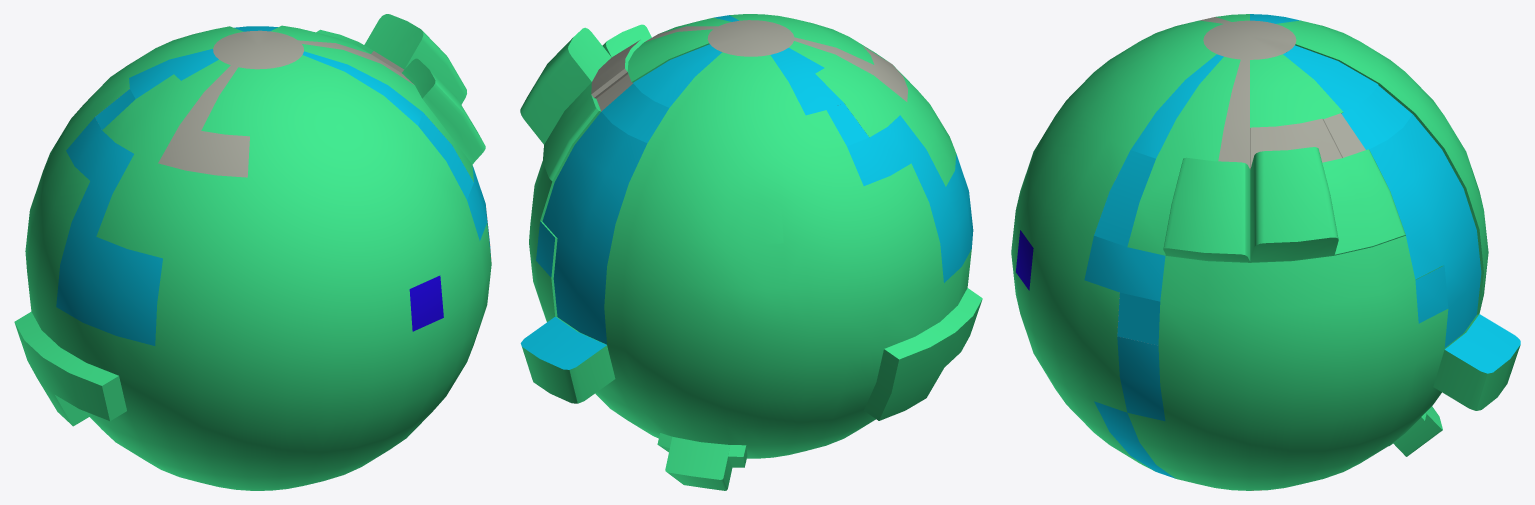
The model's file is planeetta_pohja_pienempismooth 1.fbx.
The picture shows the model from 3 angles, left to right: view 1: azimuth 30°, elevation 25°; view 2: azimuth 150°, elevation 25°; view 3: azimuth 270°, elevation 25°; orthographic projection. The views are drawn at different scales.
Parts seen in each view (by area): view 1: planeetta main; view 2: planeetta main; view 3: planeetta main.
Part boxes in pixels (x1,y1,x2,y2): planeetta main: [14, 14, 491, 490]; planeetta main: [520, 14, 982, 490]; planeetta main: [1011, 14, 1520, 490].
Bounding box in the file's own units: 10587 × 10032 × 10674.
